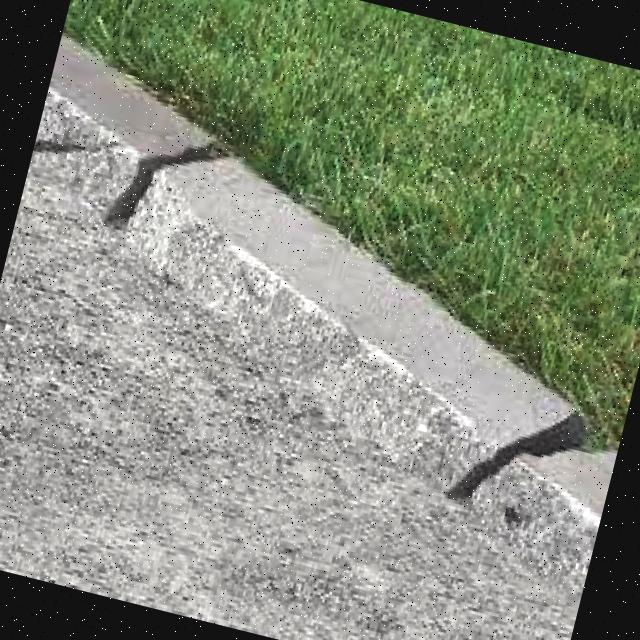curb: (9, 39, 287, 309), (217, 192, 490, 458), (429, 335, 638, 590)
